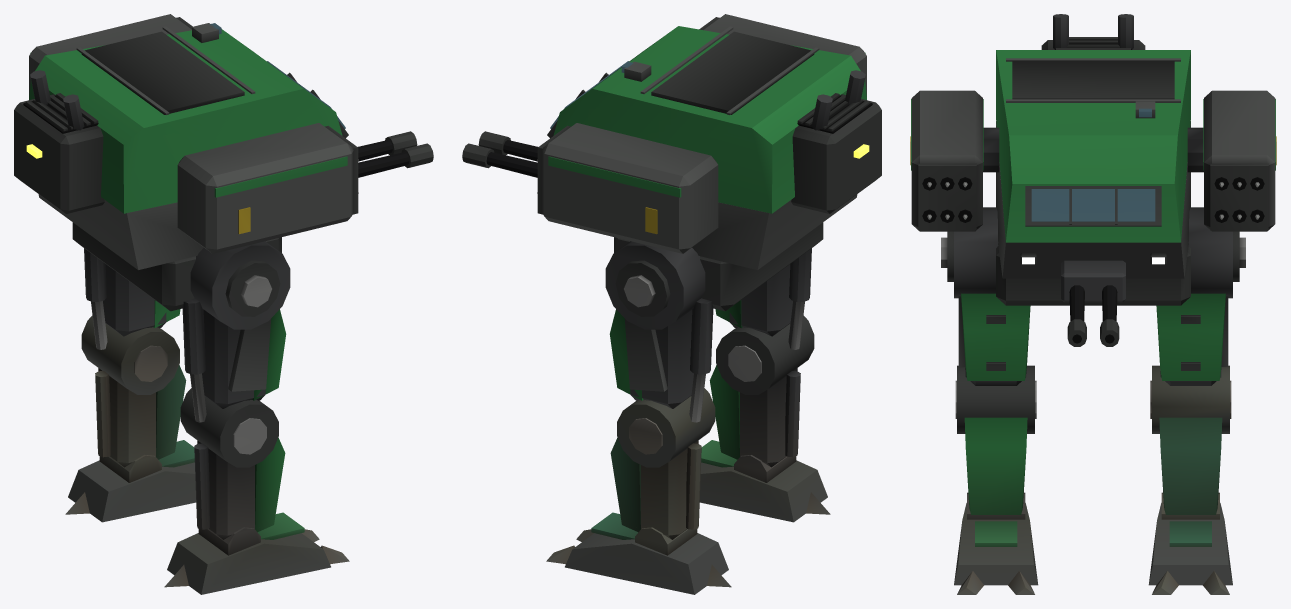
The model's file is u_titan.glb.
The picture shows the model from 3 angles, left to right: view 1: azimuth 30°, elevation 25°; view 2: azimuth 150°, elevation 25°; view 3: azimuth 270°, elevation 25°; orthographic projection.
Parts seen in each view (by area): view 1: Titan_Walls, Titan_shL, Titan_shR, Titan_Details, Titan_thL, Titan_thR; view 2: Titan_Walls, Titan_shR, Titan_shL, Titan_Details, Titan_thR, Titan_thL; view 3: Titan_Walls, Titan_Details, Titan_shL, Titan_shR, Titan_thL, Titan_thR.
Boxes of the visible parts, x1,y1,x2,y2 form: Titan_Walls: (14,14,353,311); Titan_shL: (164,388,349,594); Titan_shR: (65,315,196,522); Titan_Details: (23,17,433,234); Titan_thL: (182,241,290,422); Titan_thR: (84,248,180,349); Titan_Walls: (542,14,881,311); Titan_shR: (546,388,731,594); Titan_shL: (699,315,830,522); Titan_Details: (462,17,872,234); Titan_thR: (605,241,713,422); Titan_thL: (715,248,811,349); Titan_Walls: (911,40,1275,305); Titan_Details: (910,14,1276,346); Titan_shL: (954,365,1038,594); Titan_shR: (1148,365,1232,594); Titan_thL: (941,207,1030,385); Titan_thR: (1156,207,1245,385).
Bounding box in the file's own units: 1.37 × 1.6 × 1.13.
